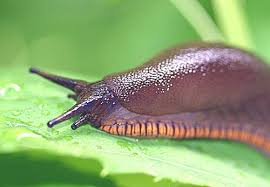slug: (41, 45, 270, 136)
